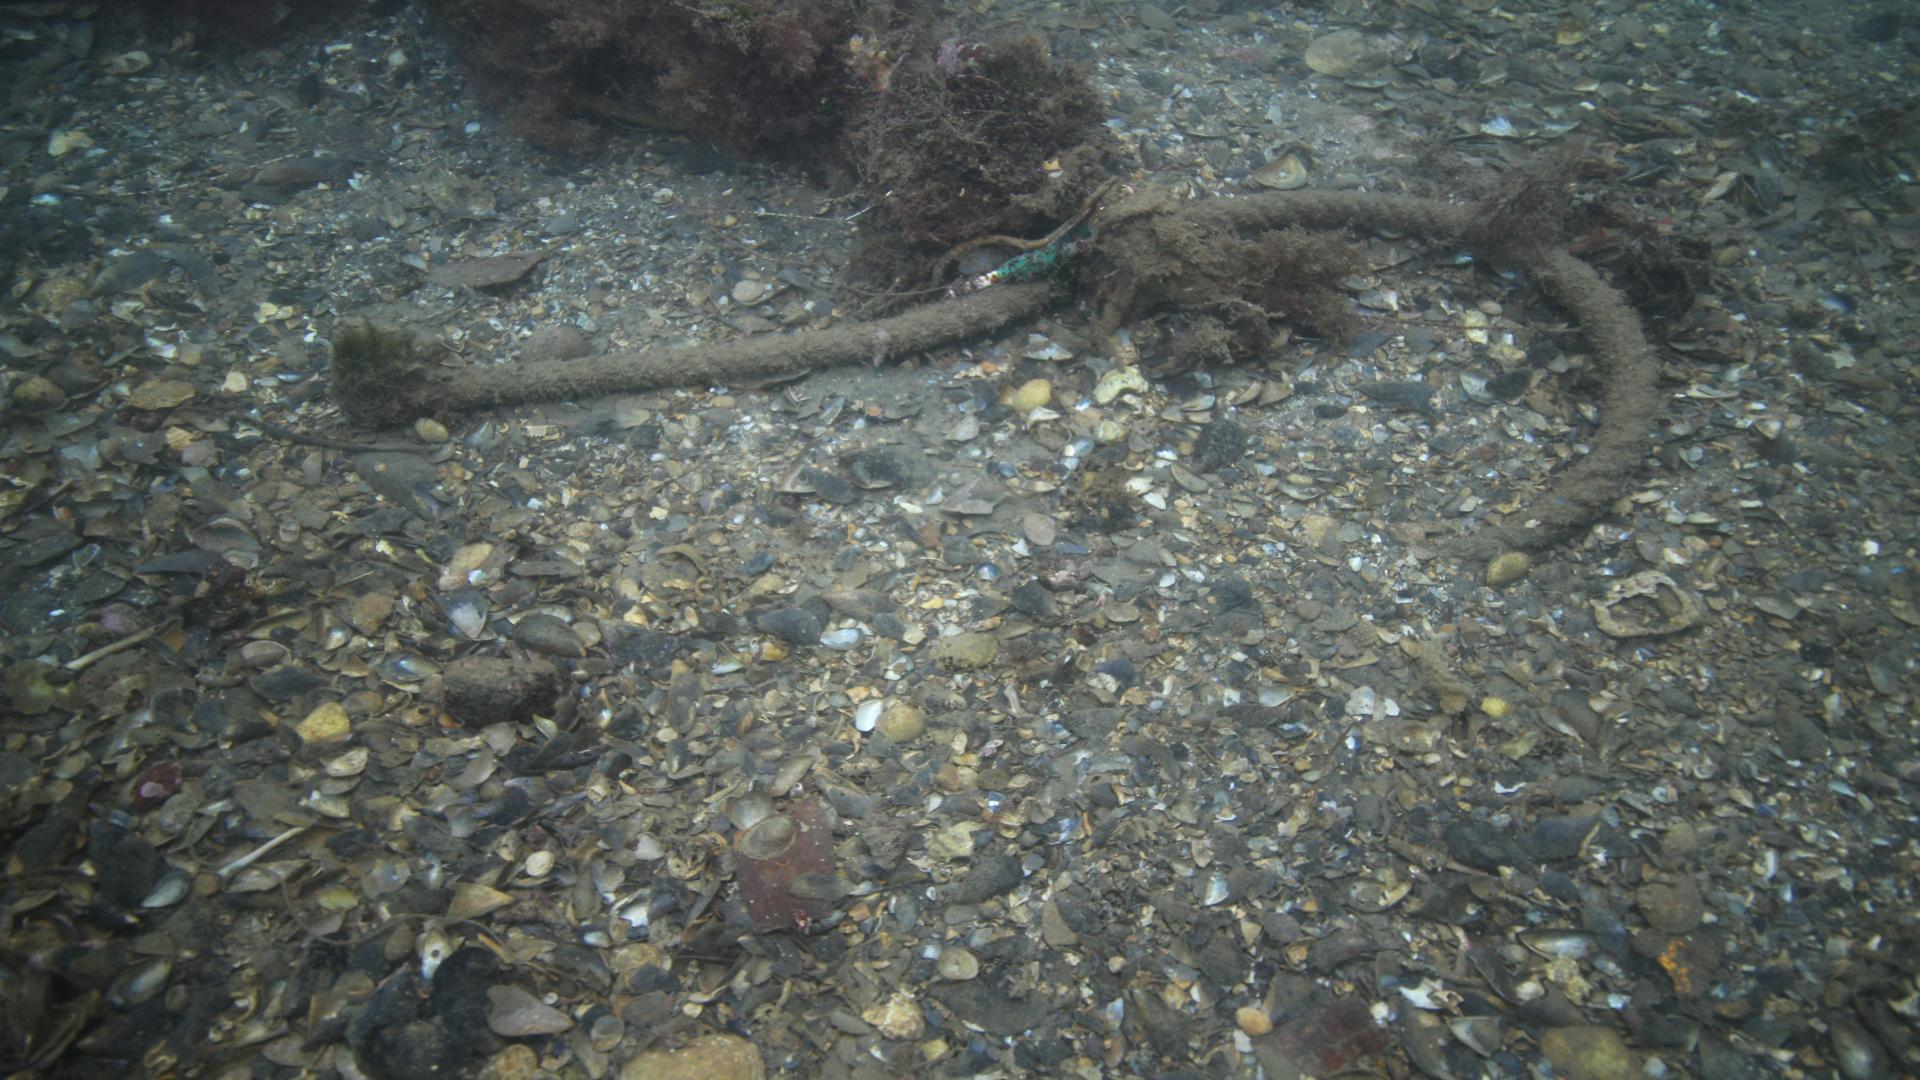rope: (451, 178, 1673, 562)
